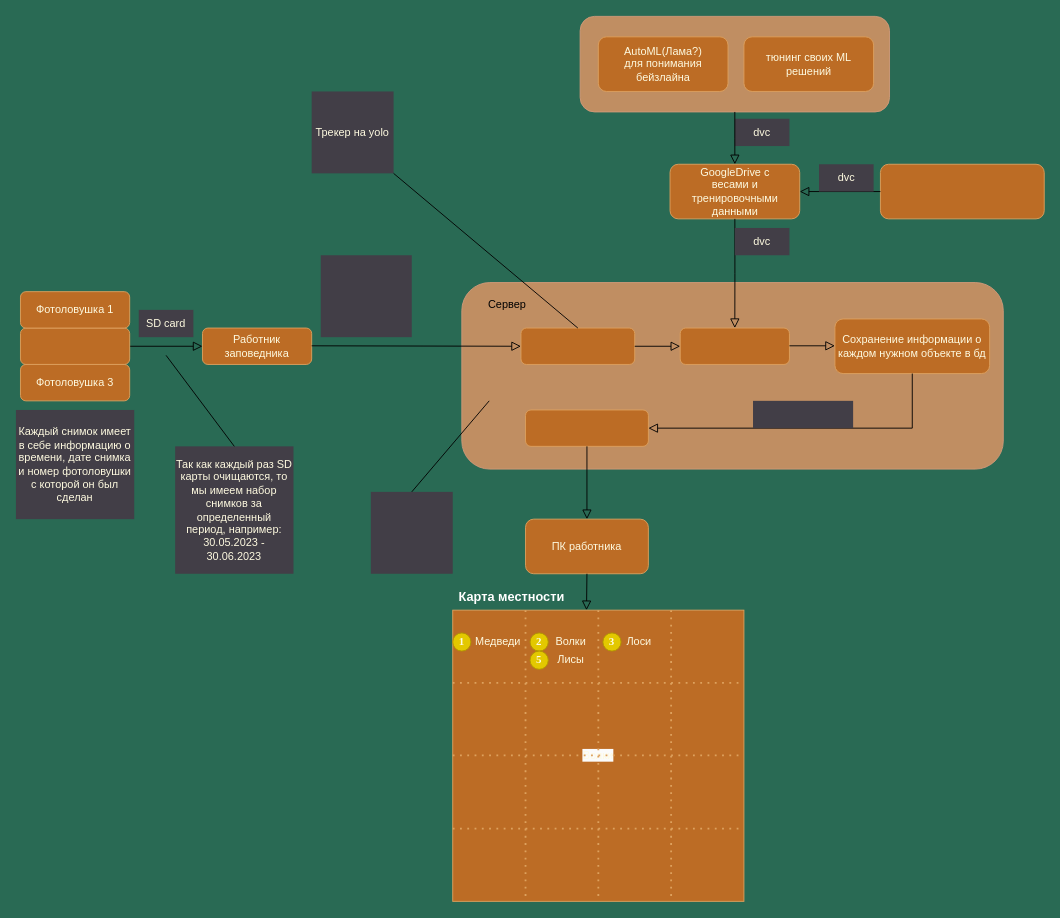
Image size: 1060x918. Some labels were removed from this diagram. Each missing label, with the box of its shape:
DB(PostgreSQL?): (753, 400, 853, 428)
Инференс на PyTriton: (370, 491, 452, 573)
Классификация каждого объекта: (679, 327, 789, 364)
Отправка работнику статистики по запросу: (525, 409, 648, 446)
Разметка изображений (если кому-то не будет лень): (880, 163, 1044, 219)
Ручная загрузка фотографий через интерфейс программы на ПК: (320, 255, 411, 337)
Трекер объектов: (520, 327, 635, 364)
Фотоловушка 2: (20, 327, 130, 364)
